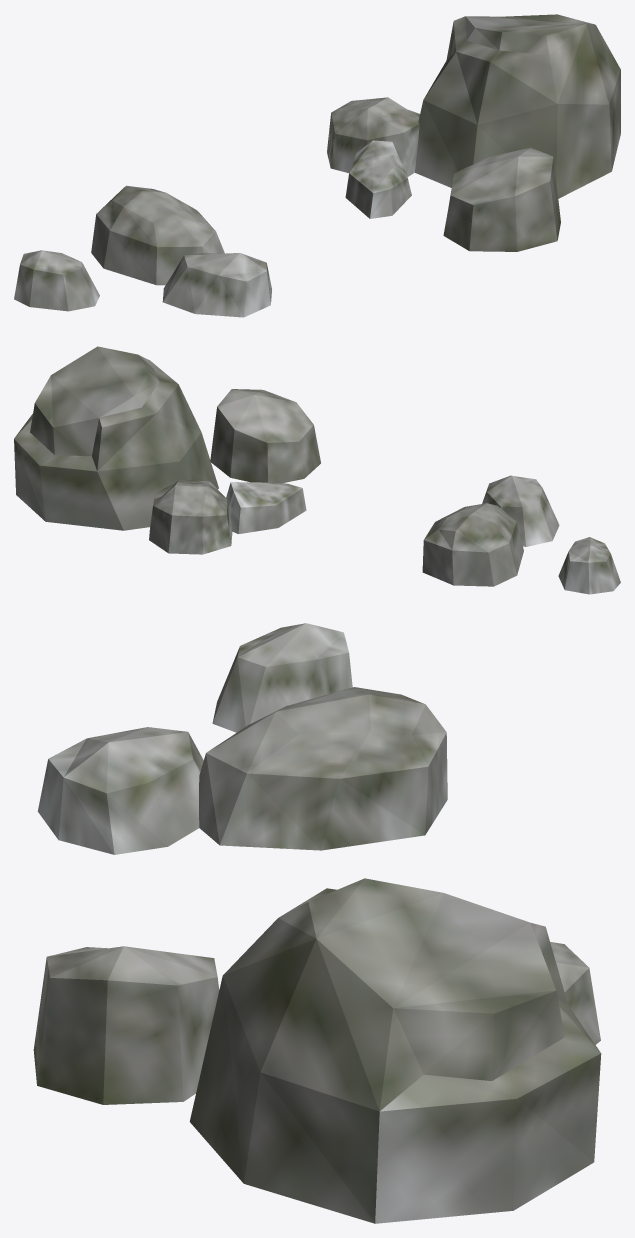
The model's file is S7_new3d_xue_shitui001.FBX.
3 renders of one model, top to bottom at view 1: azimuth 30°, elevation 25°; view 2: azimuth 150°, elevation 25°; view 3: azimuth 270°, elevation 25°, orthographic. The views are drawn at different scales.
Parts seen in each view (by area): view 1: S7_new3d_xue_shitui001; view 2: S7_new3d_xue_shitui001; view 3: S7_new3d_xue_shitui001.
Part boxes in pixels (x1=…): S7_new3d_xue_shitui001: x1=14, y1=14, x2=620, y2=317; S7_new3d_xue_shitui001: x1=14, y1=346, x2=620, y2=594; S7_new3d_xue_shitui001: x1=33, y1=623, x2=601, y2=1223.
Bounding box in the file's own units: 3.08 × 0.6319 × 1.35.
Materials: 1 (1 with a texture image).
